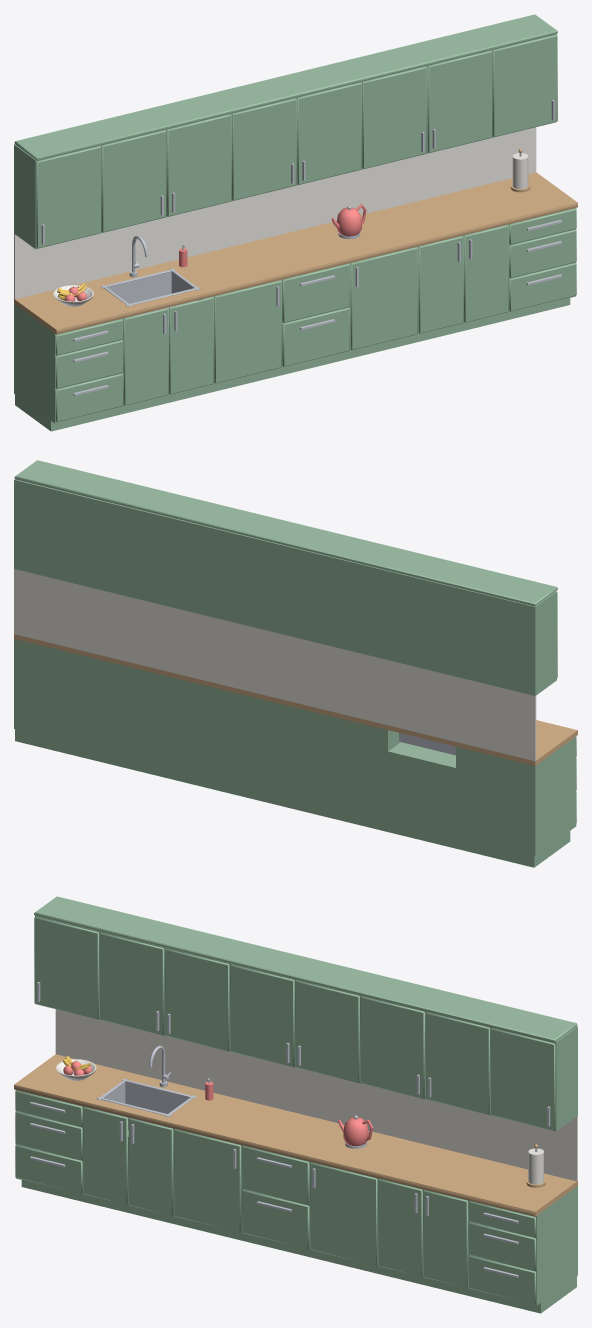
The model's file is kitchen_counter.glb.
The picture shows the model from 3 angles, top to bottom: view 1: azimuth 30°, elevation 25°; view 2: azimuth 150°, elevation 25°; view 3: azimuth 330°, elevation 25°; orthographic projection.
Parts seen in each view (by area): view 1: cabinet, white, oak, chrome, coral; view 2: cabinet, white, oak, chrome; view 3: cabinet, white, oak, chrome, coral.
Part boxes in pixels (x1,y1,x2,y2): cabinet: (14,14,576,431); white: (14,127,536,306); oak: (14,149,577,334); chrome: (41,100,561,395); coral: (64,204,366,301); cabinet: (14,460,576,867); white: (14,569,536,761); oak: (14,634,577,765); chrome: (399,733,455,755); cabinet: (15,896,577,1313); white: (55,1009,577,1184); oak: (14,1054,577,1216); chrome: (30,982,550,1277); coral: (63,1061,373,1146).
Size of the model in its own units: 4.6 by 2.23 by 0.667.
